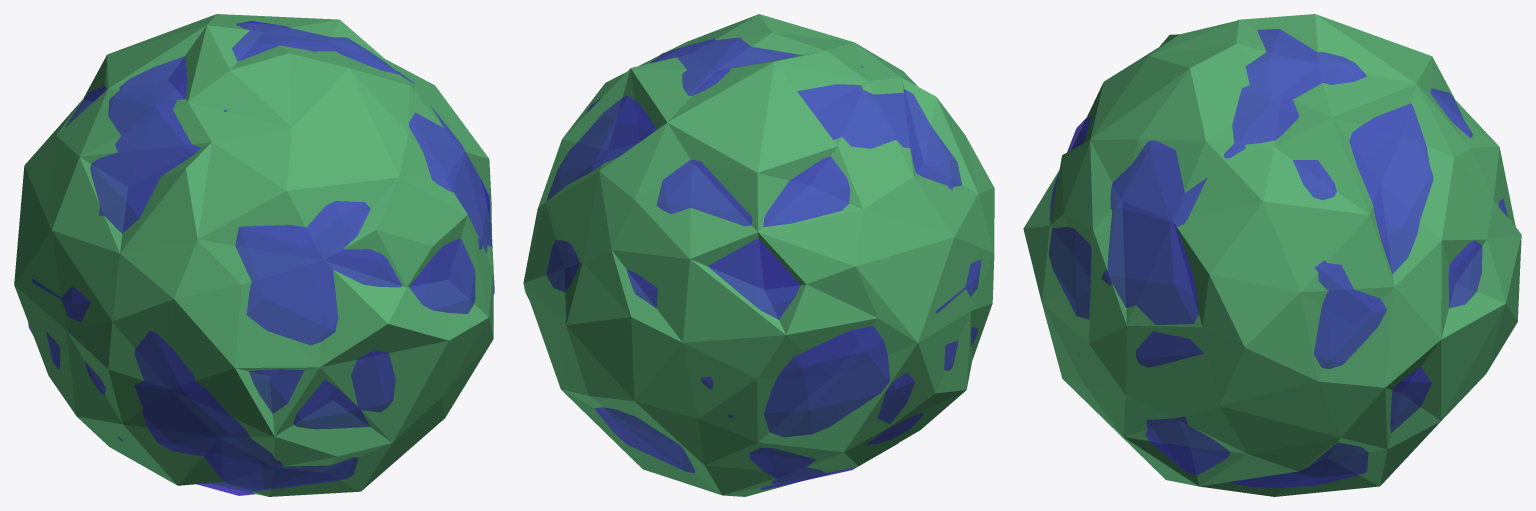
Rendered from earth_like_planet8.fbx.
The picture shows the model from 3 angles, left to right: view 1: azimuth 30°, elevation 25°; view 2: azimuth 150°, elevation 25°; view 3: azimuth 270°, elevation 25°; orthographic projection. The views are drawn at different scales.
Visible parts, largest first — view 1: earth_like_planet8; view 2: earth_like_planet8; view 3: earth_like_planet8.
Part boxes in pixels (bbox=[...]): earth_like_planet8: bbox=[14, 14, 494, 496]; earth_like_planet8: bbox=[523, 14, 994, 496]; earth_like_planet8: bbox=[1023, 14, 1521, 496].
Size of the model in its own units: 195 by 201 by 201.
